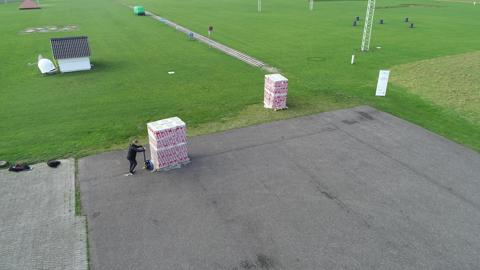RockwoolPallet: (149, 117, 192, 166)
